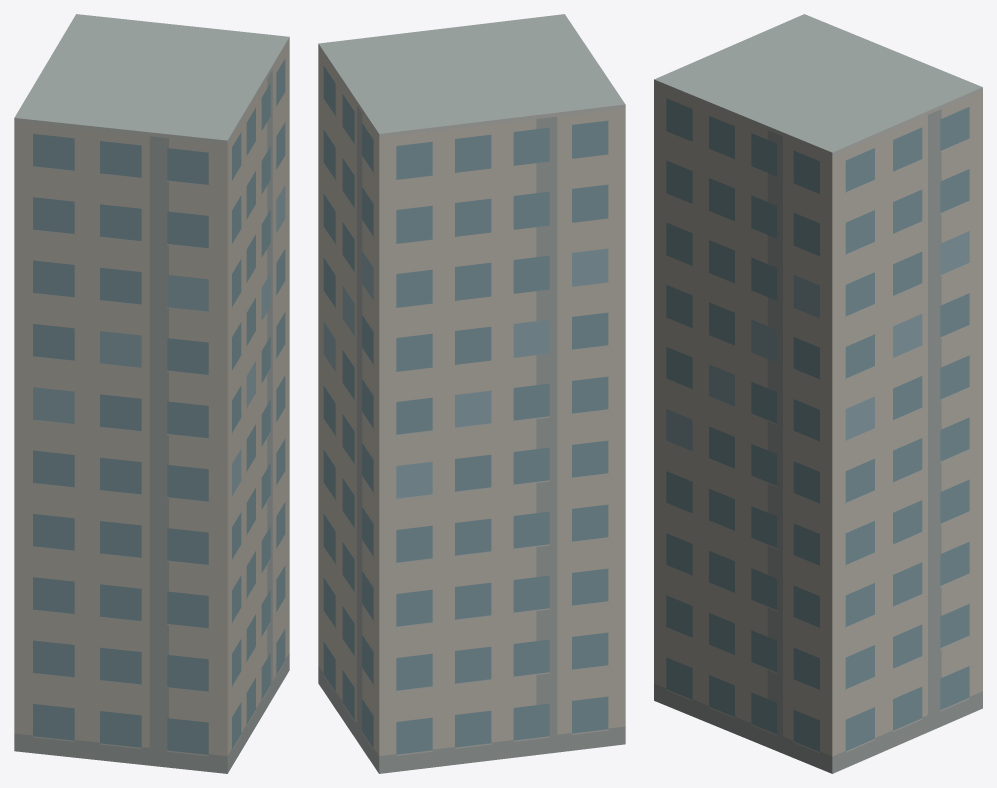
File: residential-b83a1143-e0e1-455e-bb2c-c166ebb2e027.glb
3 renders of one model, left to right at view 1: azimuth 30°, elevation 25°; view 2: azimuth 150°, elevation 25°; view 3: azimuth 270°, elevation 25°, orthographic. The views are drawn at different scales.
Visible parts, largest first — view 1: residential-b83a1143-e0e1-455e-bb2c-c166ebb2e027.tmp; view 2: residential-b83a1143-e0e1-455e-bb2c-c166ebb2e027.tmp; view 3: residential-b83a1143-e0e1-455e-bb2c-c166ebb2e027.tmp.
Part boxes in pixels (x1,y1,x2,y2): residential-b83a1143-e0e1-455e-bb2c-c166ebb2e027.tmp: (14, 14, 289, 773); residential-b83a1143-e0e1-455e-bb2c-c166ebb2e027.tmp: (318, 14, 625, 773); residential-b83a1143-e0e1-455e-bb2c-c166ebb2e027.tmp: (654, 14, 982, 773).
Bounding box in the file's own units: 18.67 × 39 × 18.71.
